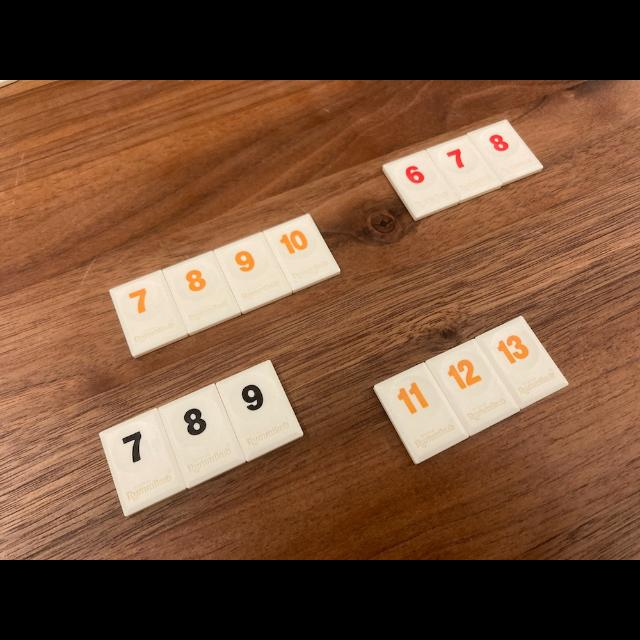black_7: (100, 409, 185, 516)
black_8: (159, 384, 245, 488)
black_9: (216, 360, 302, 461)
orange_10: (264, 214, 340, 292)
orange_11: (374, 362, 469, 464)
orange_12: (426, 339, 519, 435)
orange_13: (476, 316, 568, 408)
orange_7: (110, 270, 188, 358)
orange_8: (162, 251, 241, 334)
orange_9: (214, 232, 291, 313)
red_6: (382, 150, 459, 219)
red_7: (426, 135, 501, 202)
red_8: (468, 120, 542, 184)
